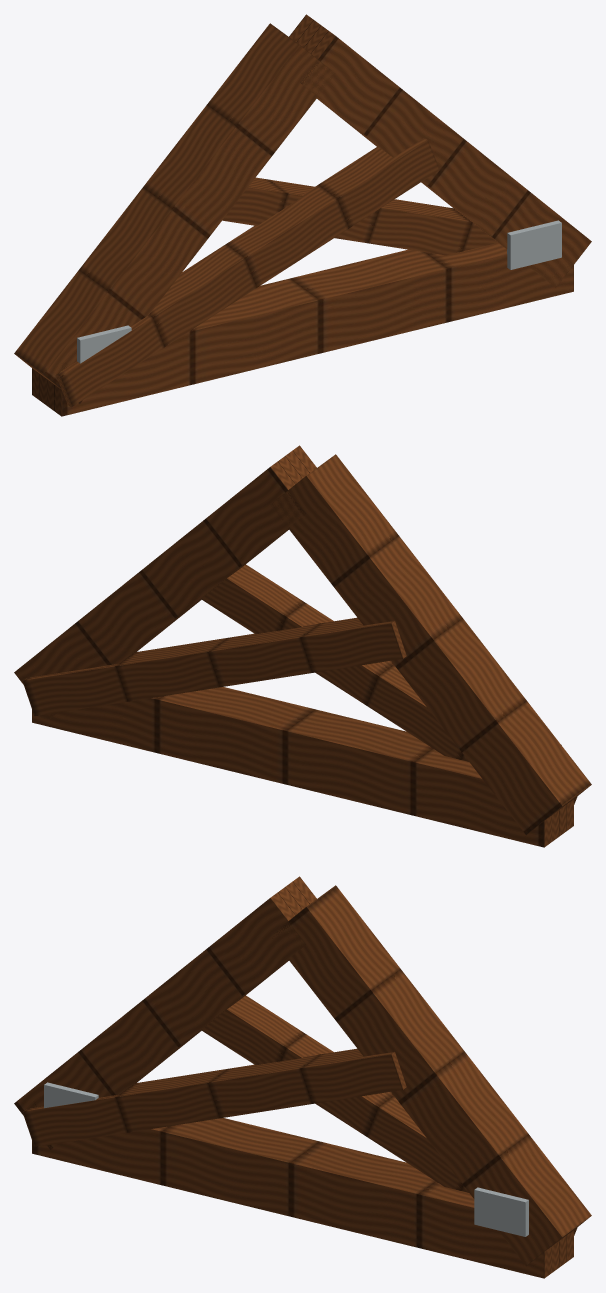
Rendered from prehistoric-survivor-settlement-longhouse-scissor-trus-38f5579c__23196.glb.
3 renders of one model, top to bottom at view 1: azimuth 30°, elevation 25°; view 2: azimuth 150°, elevation 25°; view 3: azimuth 330°, elevation 25°, orthographic.
Visible parts, largest first — view 1: longhouse-scissor-truss; view 2: longhouse-scissor-truss; view 3: longhouse-scissor-truss.
Boxes of the visible parts, bbox=[...] form: longhouse-scissor-truss: bbox=[14, 14, 591, 416]; longhouse-scissor-truss: bbox=[14, 445, 591, 847]; longhouse-scissor-truss: bbox=[14, 876, 591, 1278].
Size of the model in its own units: 2.14 by 1.17 by 0.2499.
Materials: 2 (1 with a texture image).
